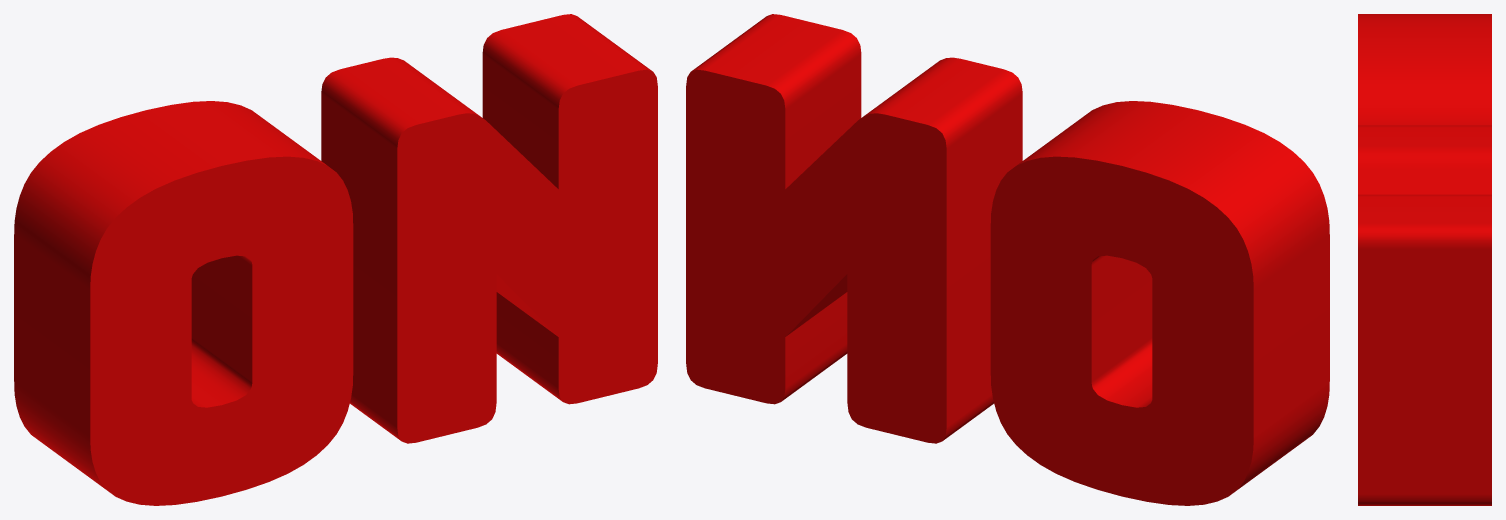
3 renders of one model, left to right at view 1: azimuth 30°, elevation 25°; view 2: azimuth 150°, elevation 25°; view 3: azimuth 270°, elevation 25°, orthographic. The views are drawn at different scales.
Visible parts, largest first — view 1: typeMesh1; view 2: typeMesh1; view 3: typeMesh1.
Boxes of the visible parts, box(x1,y1,x2,y2) form: typeMesh1: box(14, 14, 657, 505); typeMesh1: box(686, 14, 1329, 505); typeMesh1: box(1358, 14, 1491, 505).
Bounding box in the file's own units: 7.45 × 4.15 × 1.73.
